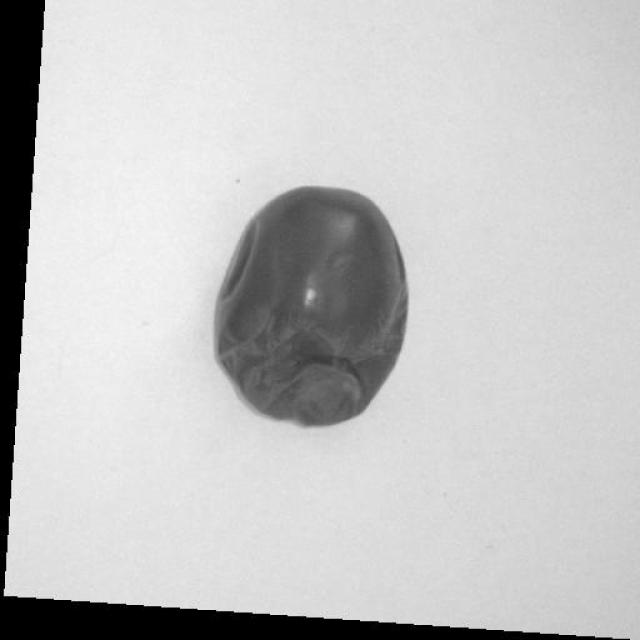Stale_tomato: (212, 190, 399, 436)
